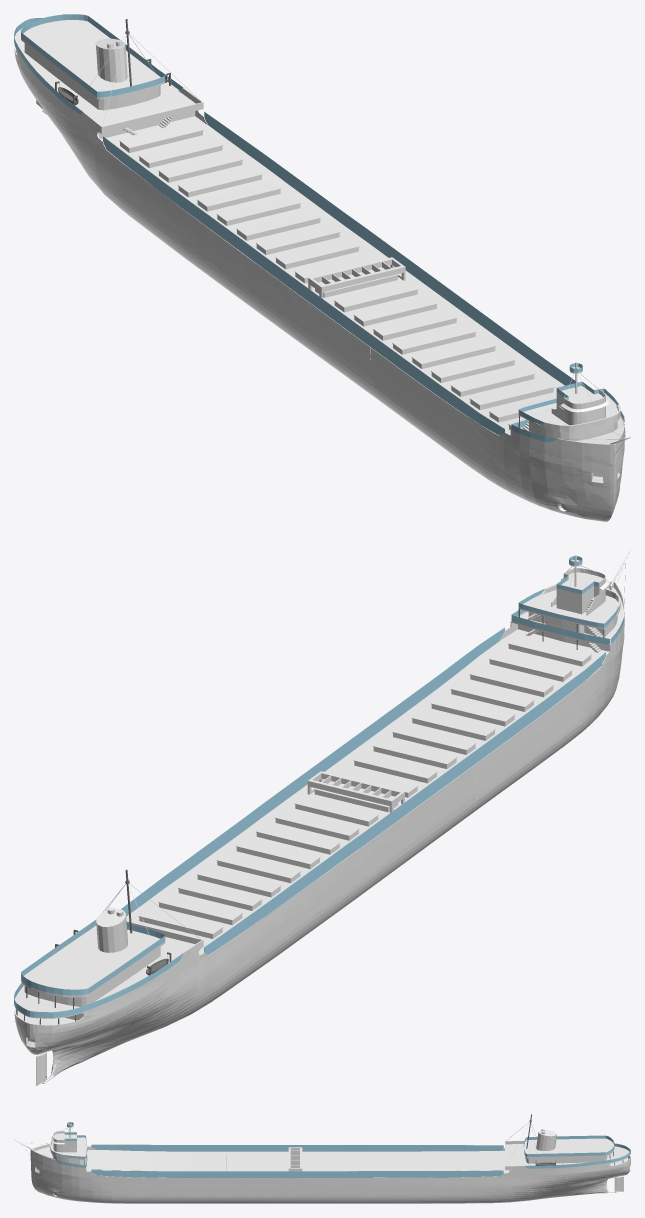
File: Container_Ships.fbx
3 views of the same model, one above another, from view 1: azimuth 30°, elevation 25°; view 2: azimuth 150°, elevation 25°; view 3: azimuth 270°, elevation 25° (orthographic). The views are drawn at different scales.
Parts seen in each view (by area): view 1: Container_Ships; view 2: Container_Ships; view 3: Container_Ships.
Part boxes in pixels (box(x1,y1,x2,y2)): Container_Ships: box(14, 14, 630, 521); Container_Ships: box(14, 550, 630, 1085); Container_Ships: box(14, 1114, 630, 1203).
Bounding box in the file's own units: 4226 × 5919 × 41480.
